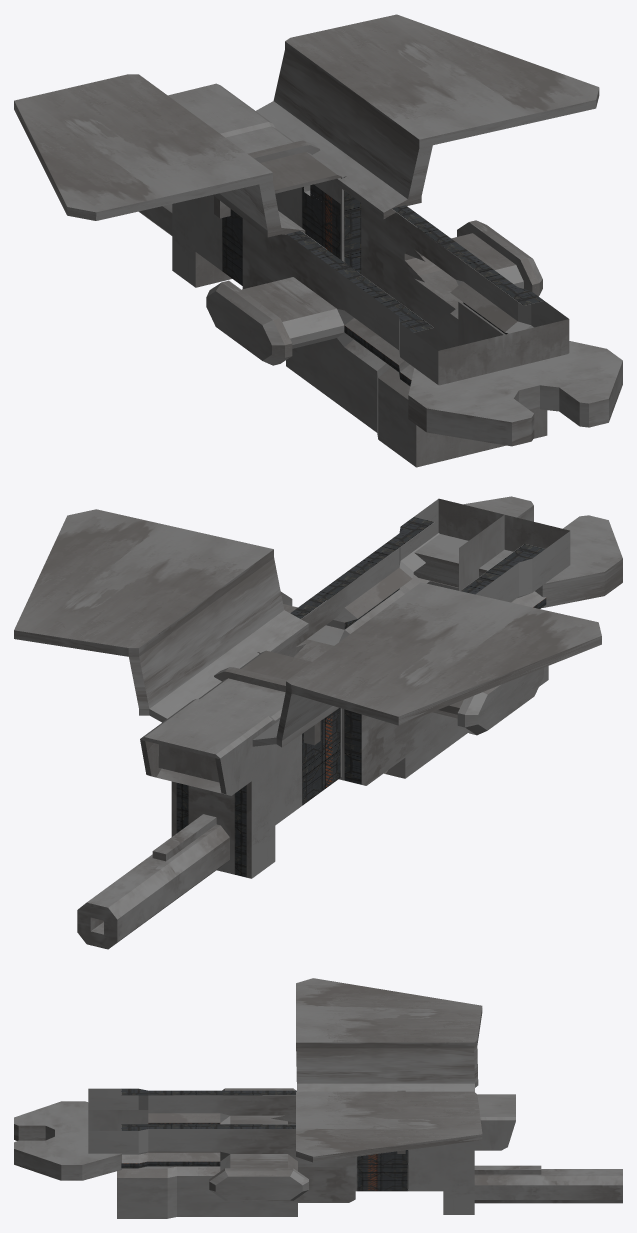
The model's file is enemyship.fbx.
3 views of the same model, one above another, from view 1: azimuth 30°, elevation 25°; view 2: azimuth 150°, elevation 25°; view 3: azimuth 270°, elevation 25° (orthographic). The views are drawn at different scales.
Parts seen in each view (by area): view 1: Cube, Cube.002, Cube.001; view 2: Cube.002, Cube, Cube.004, Cube.001; view 3: Cube, Cube.002, Cube.001, Cube.004.
Boxes of the visible parts, bbox=[...] form: Cube: bbox=[168, 83, 569, 467]; Cube.002: bbox=[14, 14, 599, 237]; Cube.001: bbox=[408, 341, 622, 446]; Cube.002: bbox=[14, 509, 601, 747]; Cube: bbox=[140, 498, 570, 878]; Cube.004: bbox=[77, 814, 229, 949]; Cube.001: bbox=[413, 496, 622, 607]; Cube: bbox=[88, 1088, 515, 1218]; Cube.002: bbox=[296, 978, 482, 1162]; Cube.001: bbox=[14, 1101, 121, 1180]; Cube.004: bbox=[474, 1165, 622, 1203].
Bounding box in the file's own units: 1333 × 498 × 1994.
